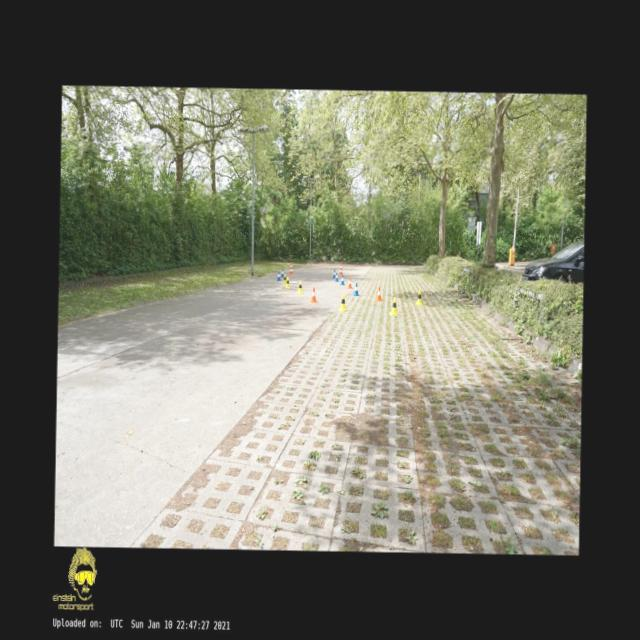blue_cone: (353, 282, 359, 295), (276, 270, 281, 280), (339, 274, 344, 284), (280, 268, 284, 278), (334, 272, 338, 282), (332, 269, 336, 278)
large_orange_cone: (289, 261, 293, 275), (338, 263, 342, 275)
orange_cone: (310, 286, 318, 302), (376, 286, 382, 300), (346, 277, 352, 288)
yellow_cone: (339, 294, 346, 312), (391, 296, 398, 314), (416, 290, 422, 304), (285, 276, 290, 288), (298, 280, 302, 292), (282, 274, 286, 284)
